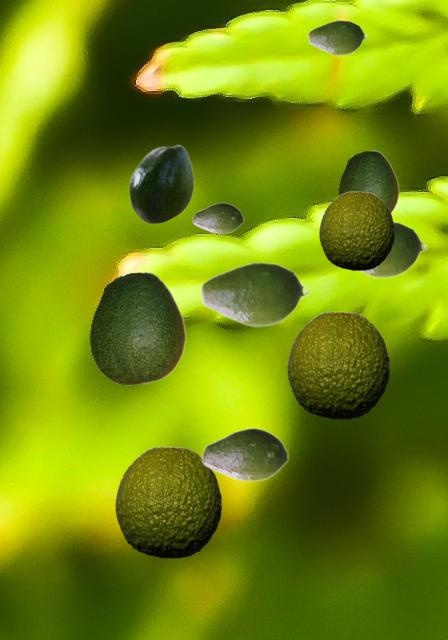avocado: (115, 446, 220, 557), (89, 271, 185, 384), (287, 311, 388, 418), (199, 260, 309, 327), (319, 191, 393, 269), (128, 144, 193, 223), (201, 427, 288, 481), (353, 221, 427, 278), (338, 150, 398, 213), (307, 19, 367, 55), (192, 202, 243, 233)
